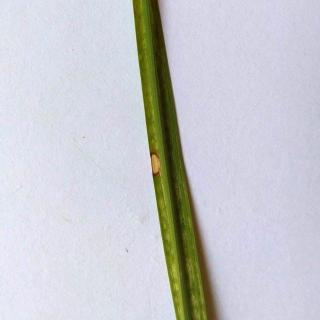Blast: (141, 128, 175, 205)
